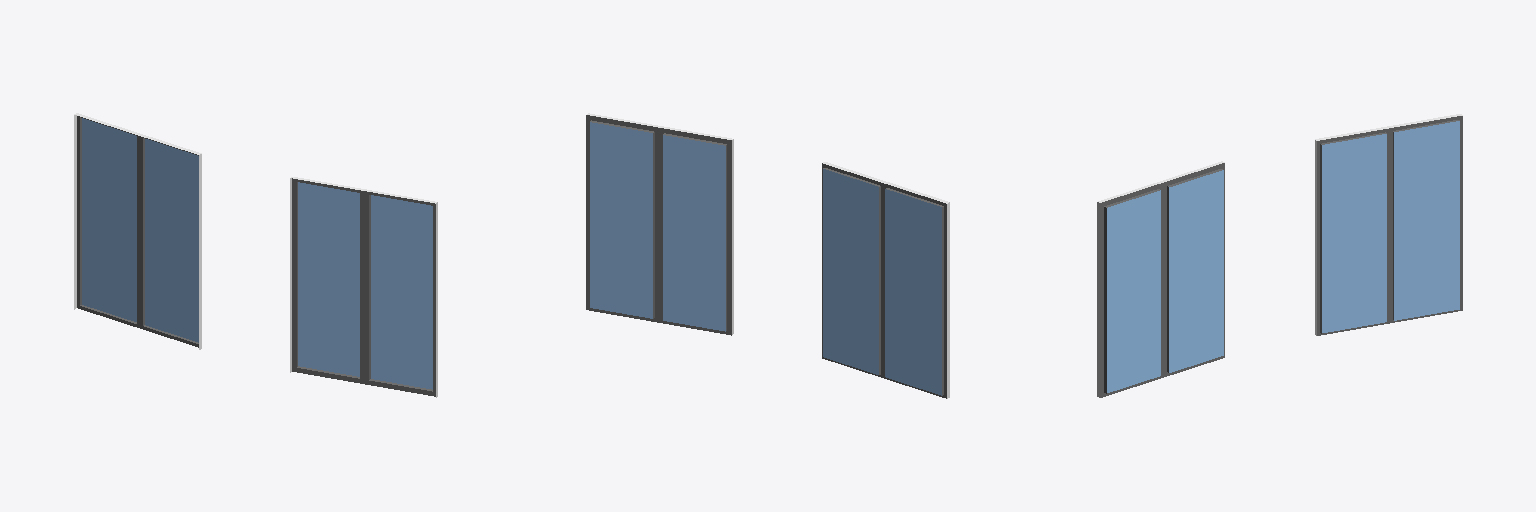
The picture shows the model from 3 angles: view 1: azimuth 30°, elevation 25°; view 2: azimuth 210°, elevation 25°; view 3: azimuth 270°, elevation 25°; orthographic projection.
Bounding box in the file's own units: 3 × 3.05 × 5.17.
Materials: 3 (3 with a texture image).